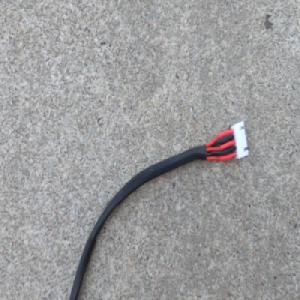Wire: (68, 118, 250, 300)
